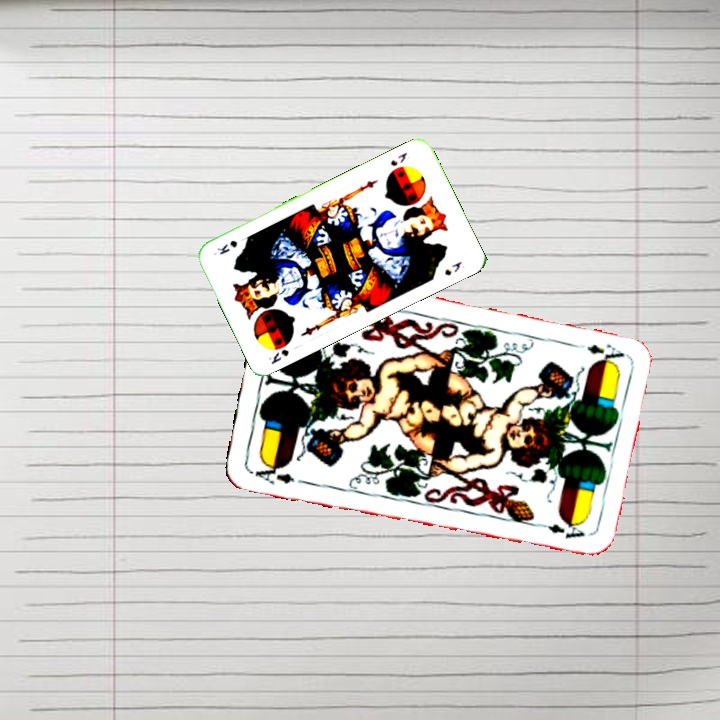EA: (249, 458, 298, 487), (568, 339, 627, 363)
SK: (265, 345, 291, 367), (386, 148, 410, 169)
